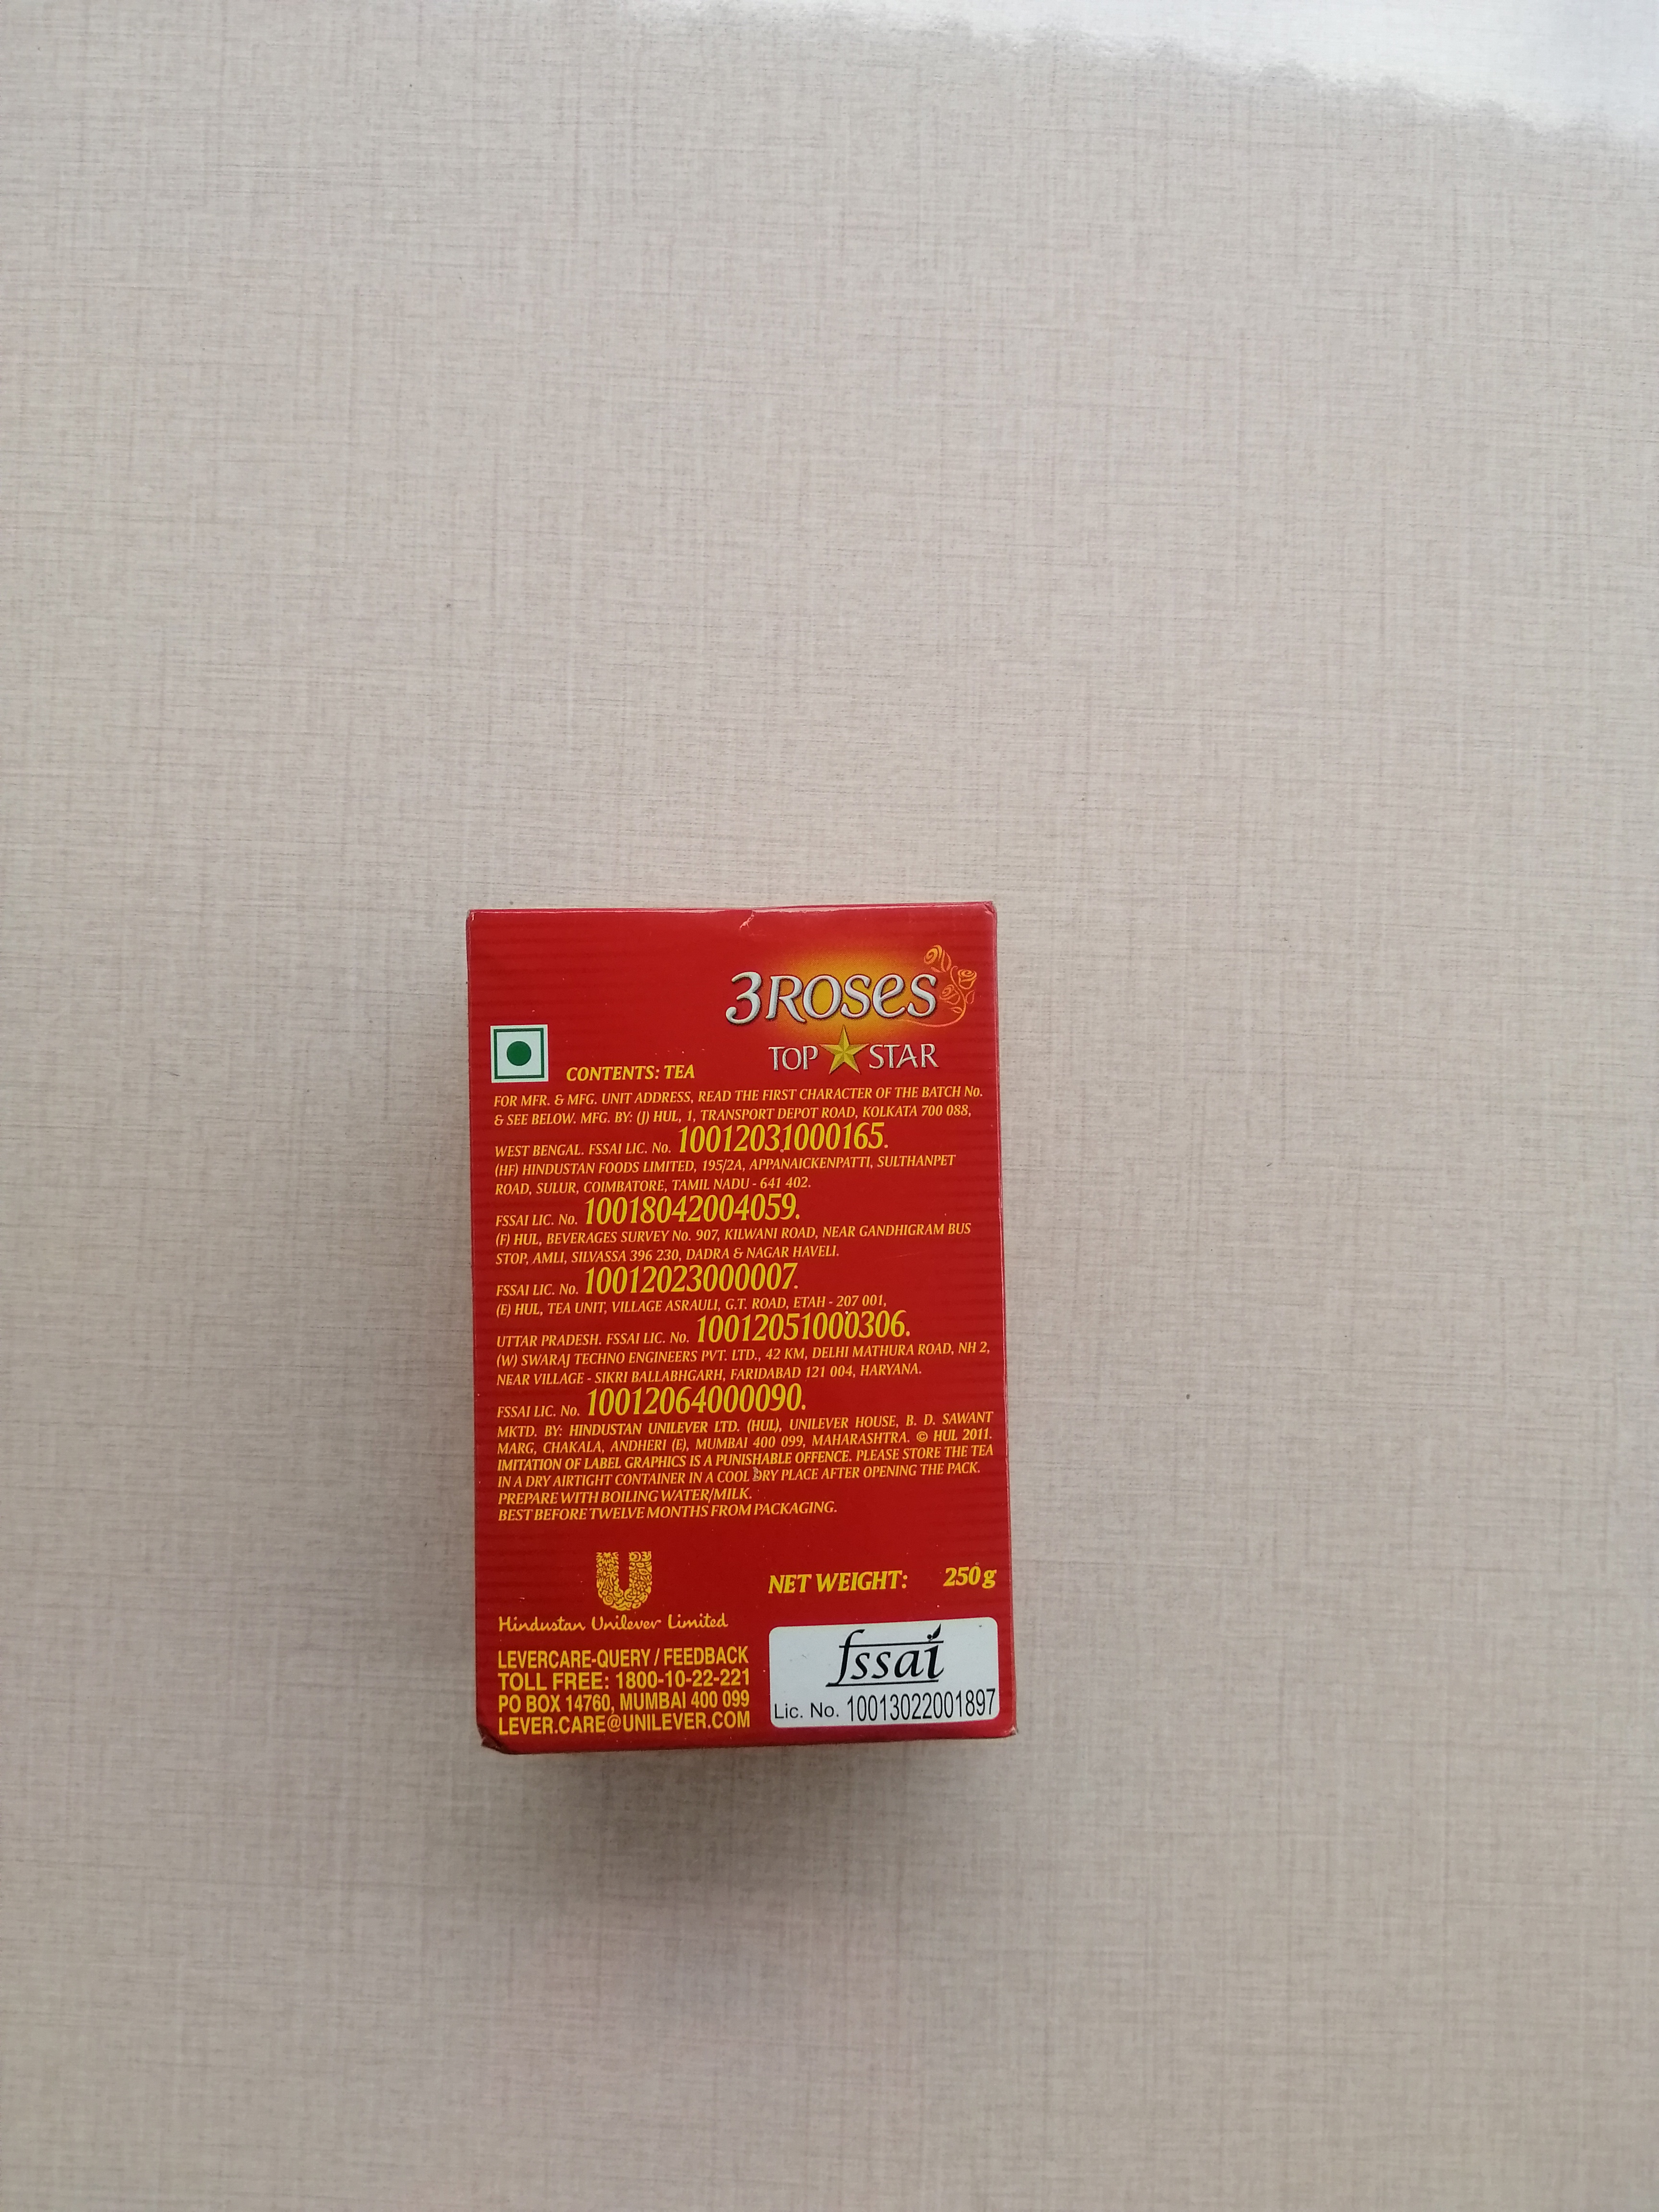3roses_top_star: (471, 902, 1012, 1747)
